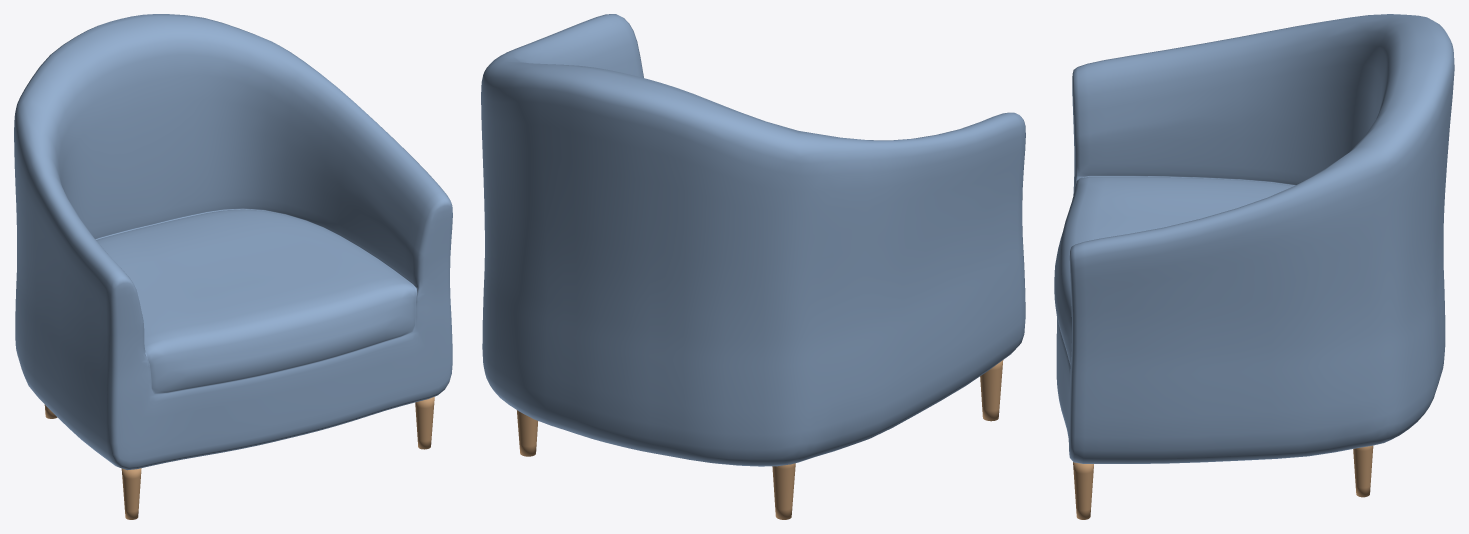
Rendered from sofa1#3.fbx.
3 views of the same model, side by side, from view 1: azimuth 30°, elevation 25°; view 2: azimuth 150°, elevation 25°; view 3: azimuth 270°, elevation 25° (orthographic). The views are drawn at different scales.
Parts seen in each view (by area): view 1: Loft02, Object01; view 2: Loft02, Object01; view 3: Loft02, Object01.
Part boxes in pixels (left/top/right/bottom): Loft02: left=14, top=14, right=452, bottom=470; Object01: left=44, top=397, right=434, bottom=519; Loft02: left=481, top=14, right=1025, bottom=466; Object01: left=517, top=360, right=1003, bottom=519; Loft02: left=1054, top=14, right=1454, bottom=463; Object01: left=1073, top=445, right=1373, bottom=519.
Bounding box in the file's own units: 1.99 × 1.92 × 1.78.
